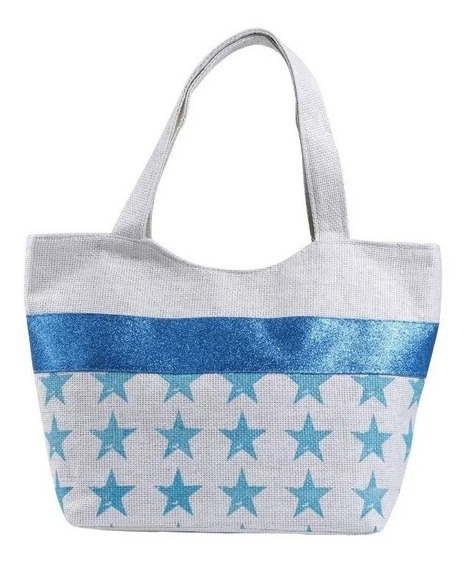cartera: (24, 28, 443, 538)
